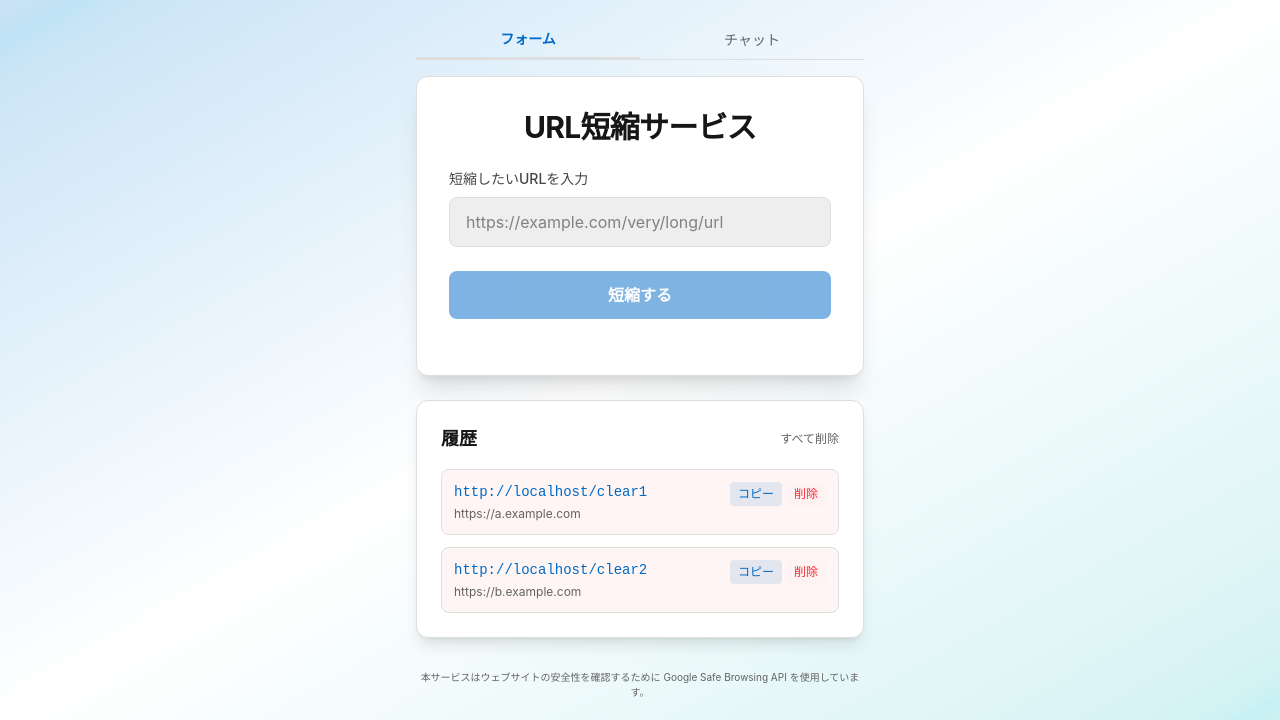
Scenario: Home Page › History Feature › clears all history
This screenshot has width=1280, height=720.
Check: the heading "履歴" is shown, box [441,424,477,452]
What coordinates should you click on to do the following:
click the button "すべて削除"
I would click on:
 (810, 438)
Its box is [780,430,839,446].
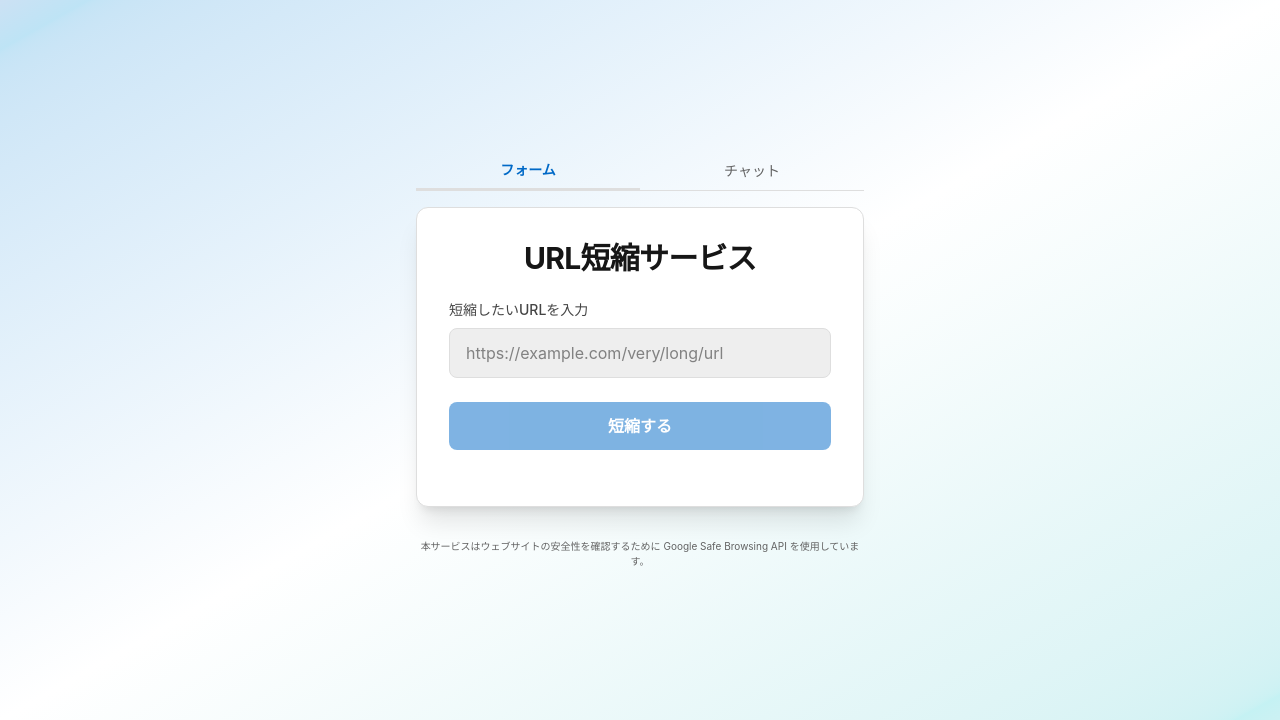
Check: the heading "履歴" is gone
